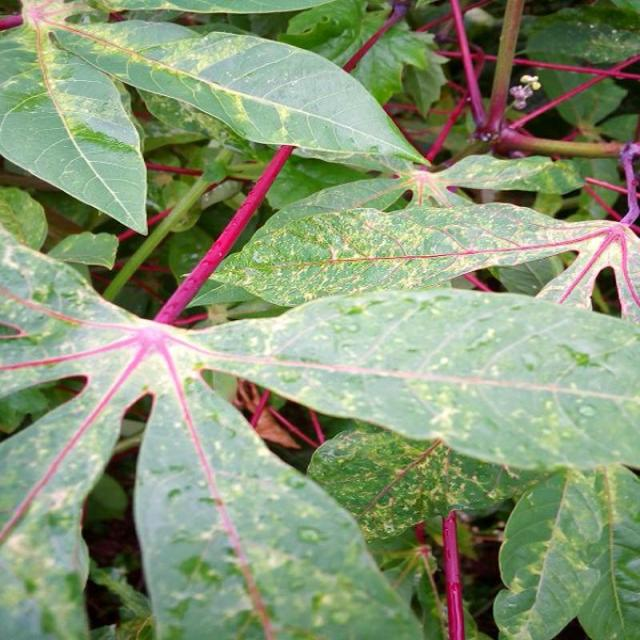cassava leaf: (2, 2, 640, 638), (179, 285, 640, 472), (134, 367, 426, 639), (48, 15, 434, 177), (181, 181, 639, 315)
